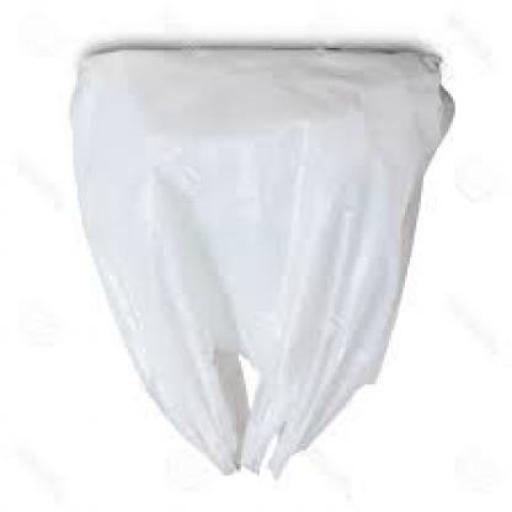plastic: (68, 52, 452, 482)
